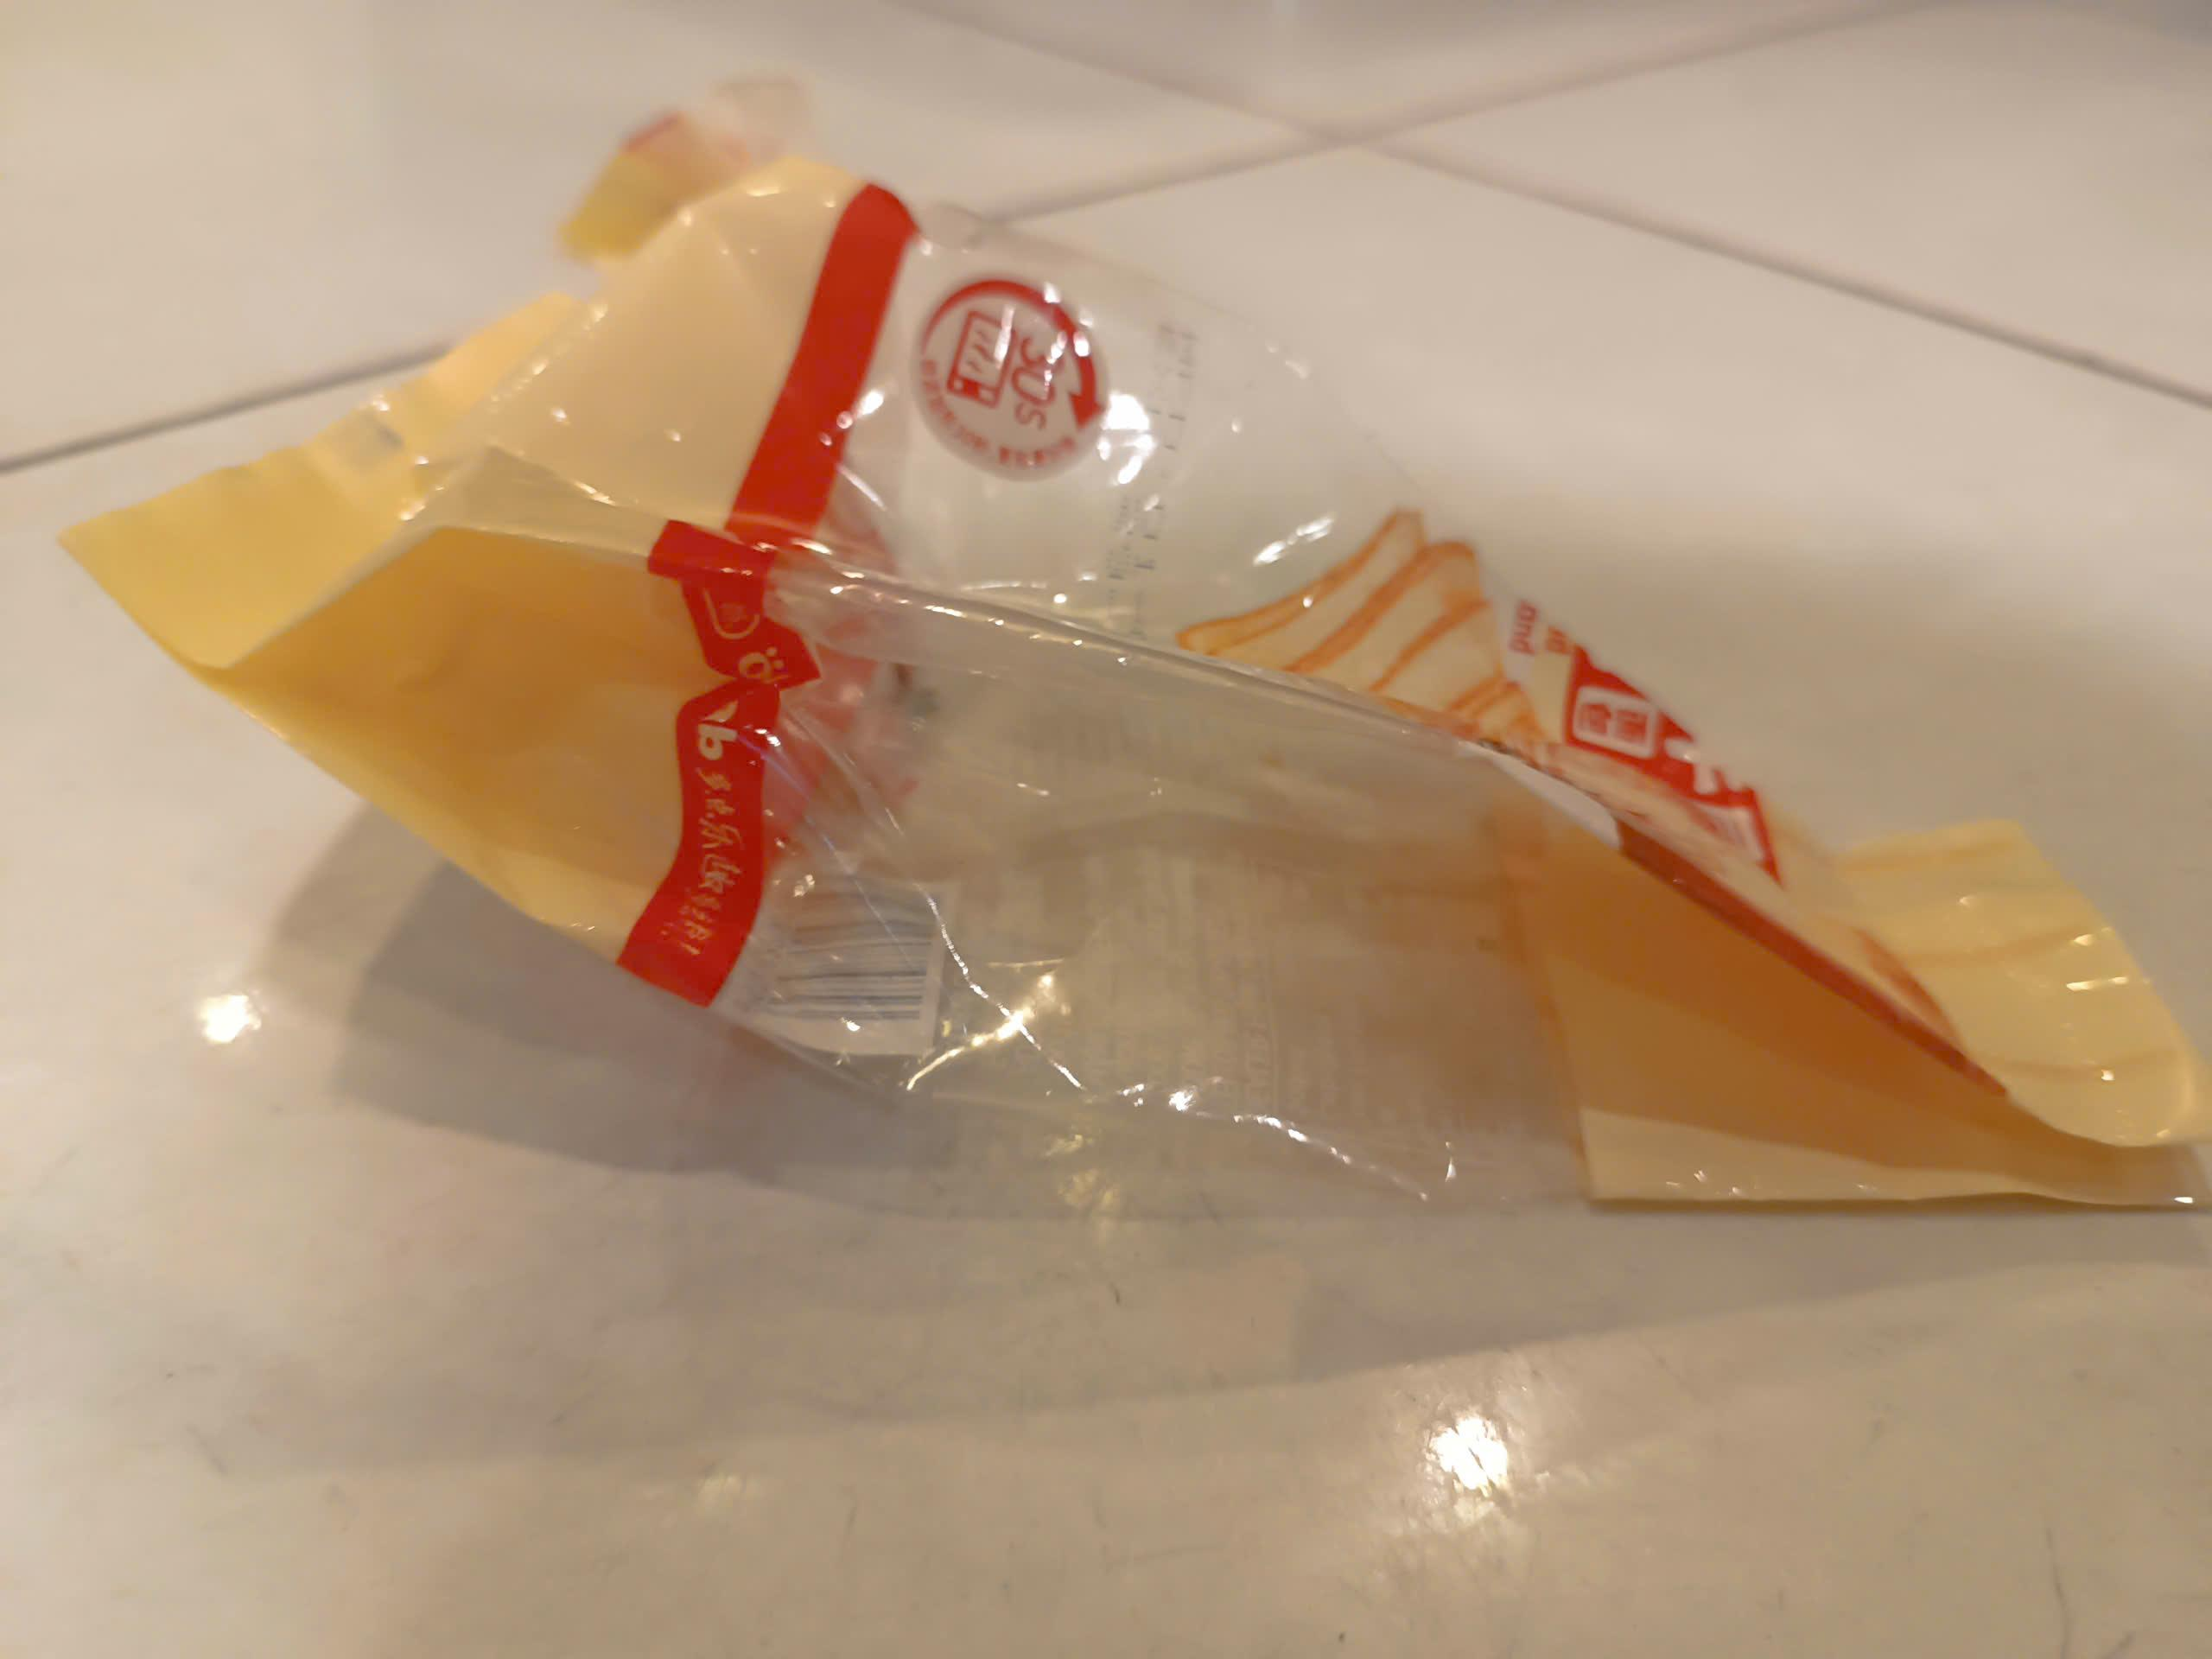Vo co: (66, 179, 2163, 1194)
